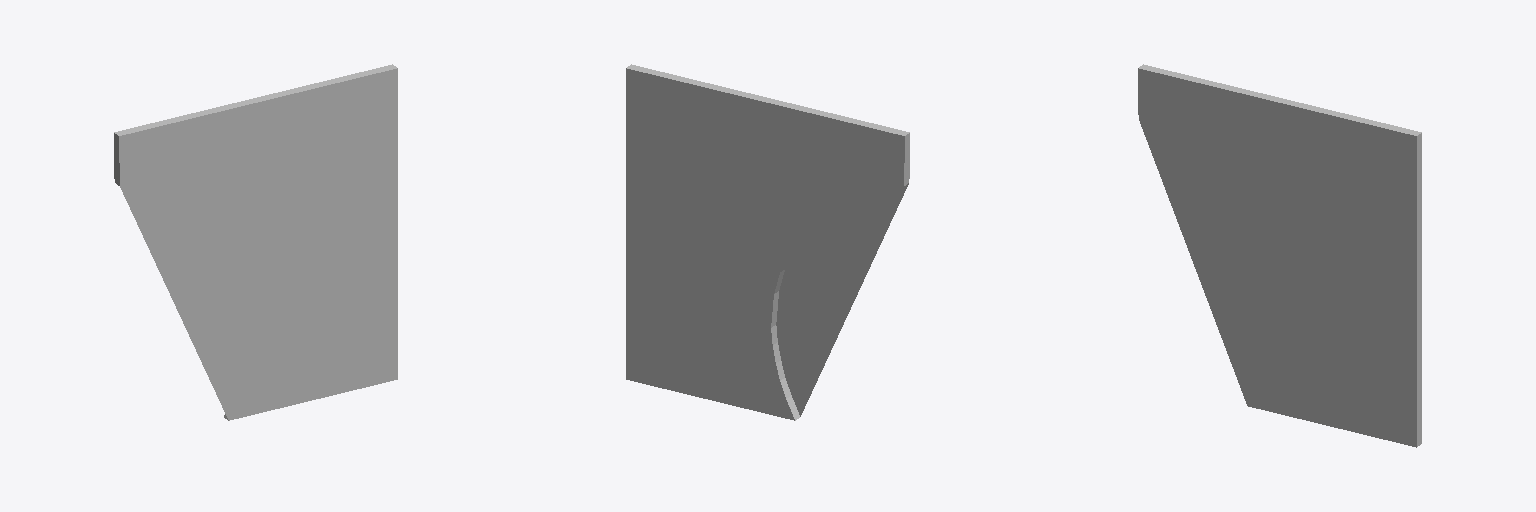
File: door-wall5.obj
The picture shows the model from 3 angles: view 1: azimuth 30°, elevation 25°; view 2: azimuth 150°, elevation 25°; view 3: azimuth 330°, elevation 25°; orthographic projection.
Parts seen in each view (by area): view 1: Cube_Cube.001; view 2: Cube_Cube.001; view 3: Cube_Cube.001.
Boxes of the visible parts, x1,y1,x2,y2 form: Cube_Cube.001: [114, 64, 397, 420]; Cube_Cube.001: [626, 64, 909, 420]; Cube_Cube.001: [1138, 64, 1421, 447].
Bounding box in the file's own units: 1.88 × 2 × 0.0612.